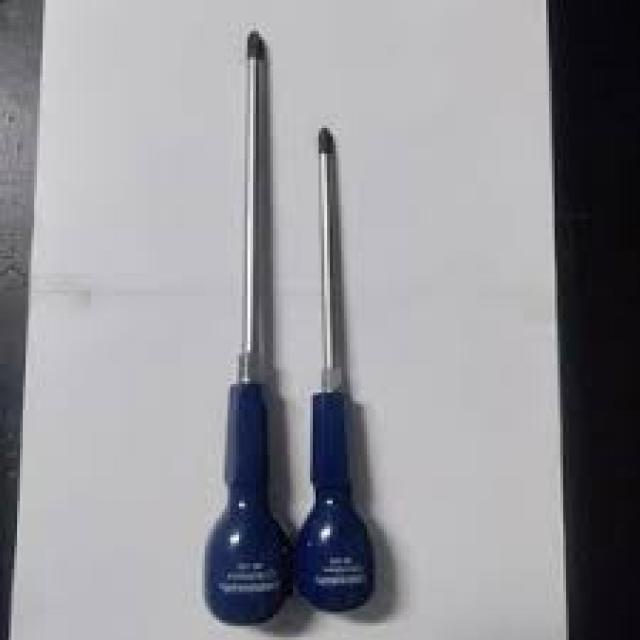screwdriver: (199, 26, 293, 628), (290, 122, 376, 618)
